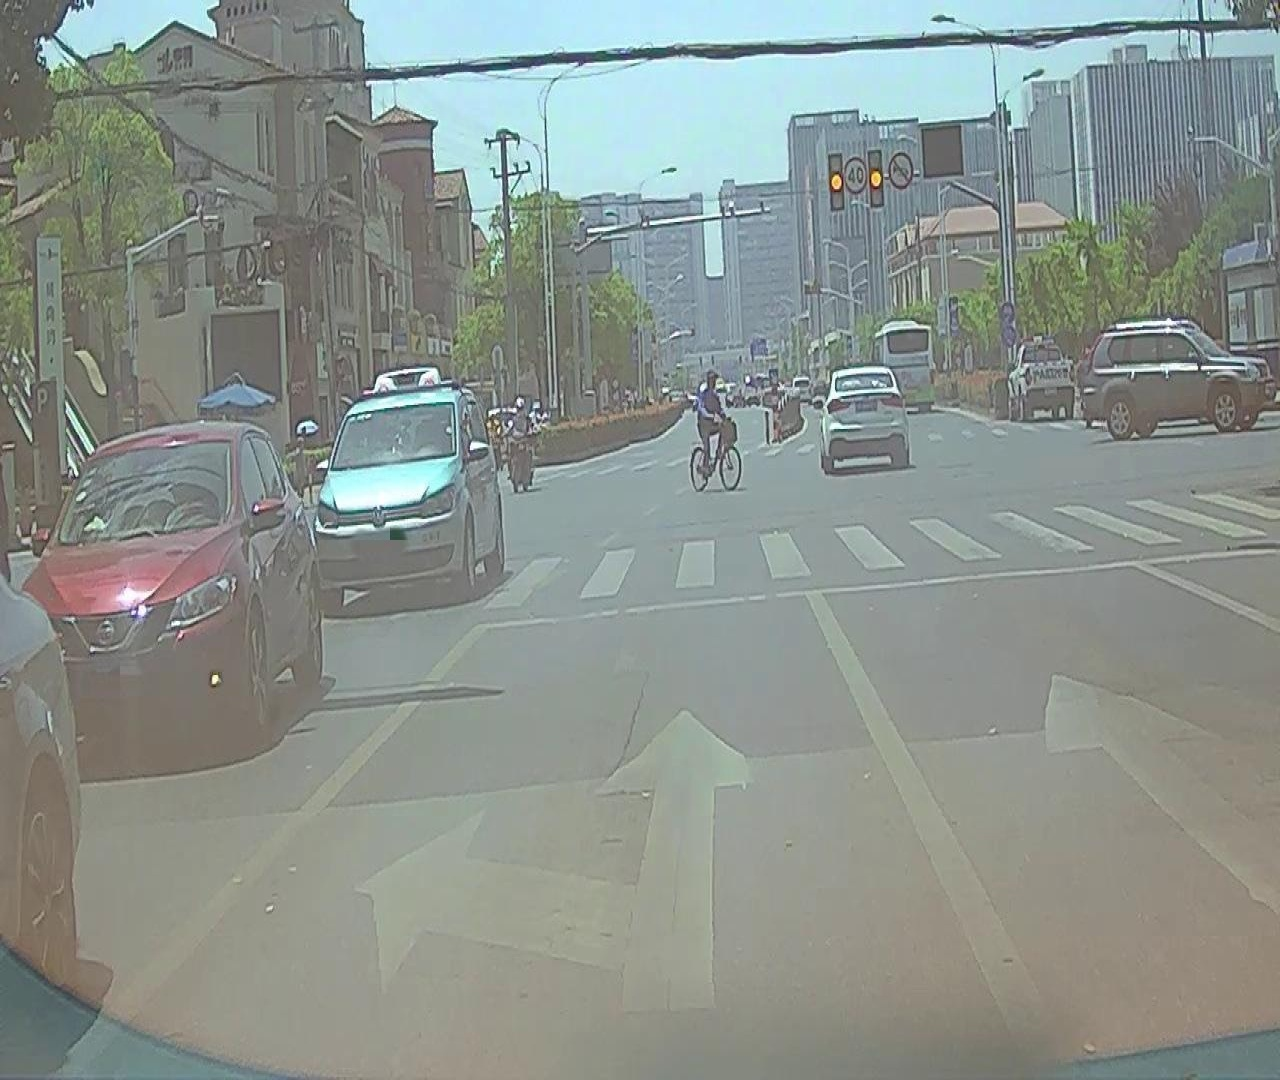yellow: (869, 150, 885, 207), (829, 154, 844, 208)
